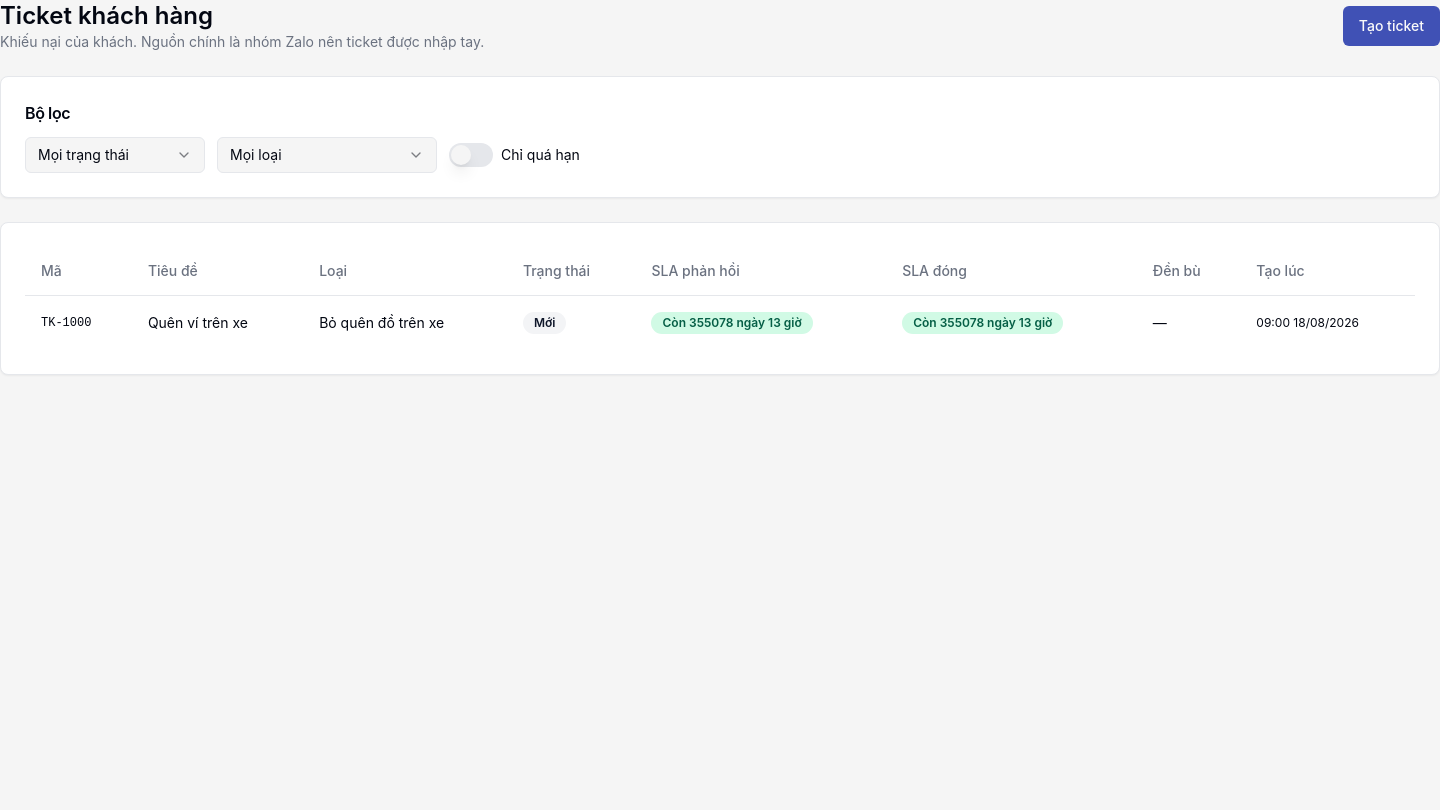
/crm-tickets — chi tiết & ĐỀN BÙ (ranh giới quyền) › CÓ crm-compensate: hiện nút DUYỆT và hiện trần
Click the row with test id "crm-ticket-row": (720, 322) [25,295,1415,350]
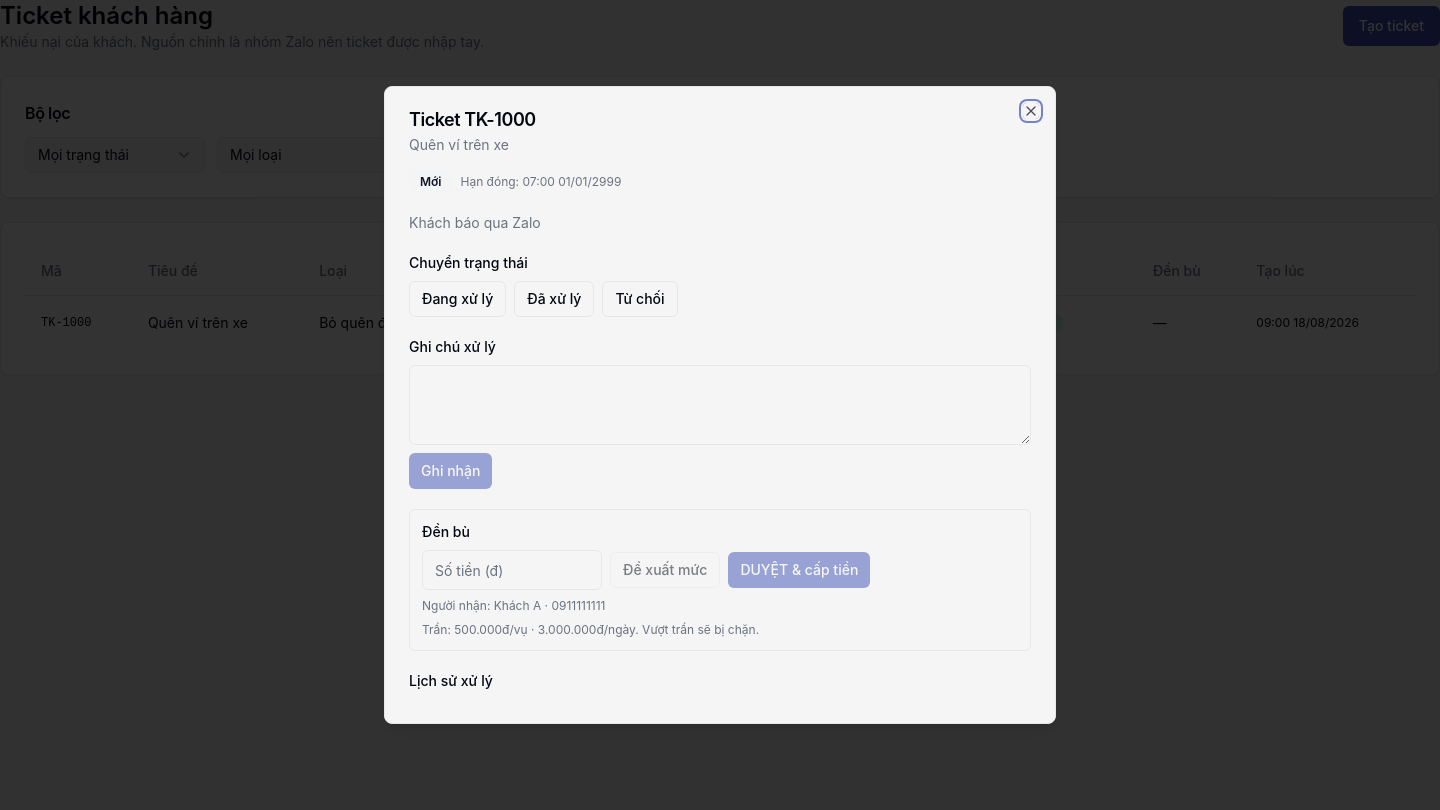
Result: the heading "Ticket TK-1000" is shown at [409,109,536,130]
Result: the button "DUYỆT & cấp tiền" is shown at [728,552,870,588]
Result: the text "Trần: 500.000đ/vụ · 3.000.000đ/ngày. Vượt trần sẽ bị chặn." is shown at [422,622,759,637]
